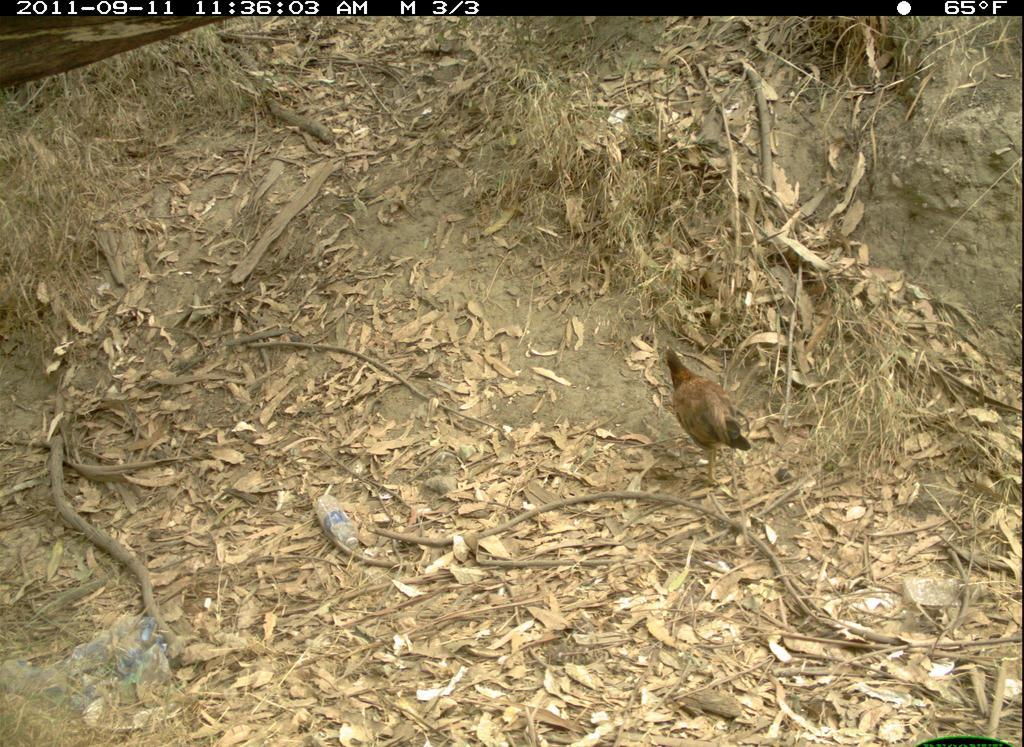bird: (665, 347, 753, 489)
